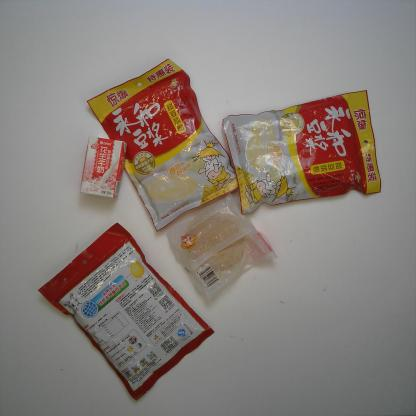Dessert: (166, 192, 278, 304)
Instant Drink: (37, 222, 214, 401), (87, 58, 242, 233), (221, 89, 382, 215)
Milk: (80, 135, 128, 198)
